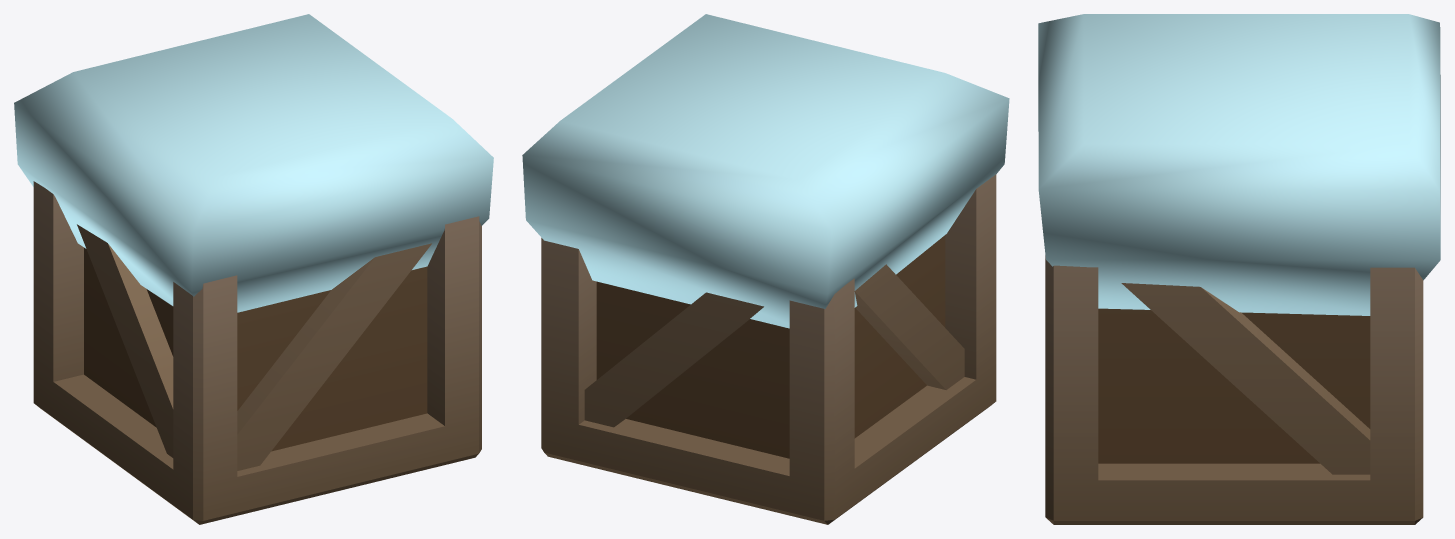
Rendered from Crate_Winter_0_1.fbx.
The picture shows the model from 3 angles, left to right: view 1: azimuth 30°, elevation 25°; view 2: azimuth 150°, elevation 25°; view 3: azimuth 270°, elevation 25°; orthographic projection. The views are drawn at different scales.
Parts seen in each view (by area): view 1: Crate_Small_0_1.002; view 2: Crate_Small_0_1.002; view 3: Crate_Small_0_1.002.
Part boxes in pixels (x1=…): Crate_Small_0_1.002: x1=14, y1=14, x2=493, y2=524; Crate_Small_0_1.002: x1=522, y1=14, x2=1009, y2=524; Crate_Small_0_1.002: x1=1038, y1=14, x2=1440, y2=524.
Bounding box in the file's own units: 106 × 110 × 106.
